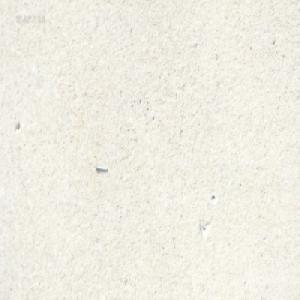Nail: (94, 163, 107, 171)
